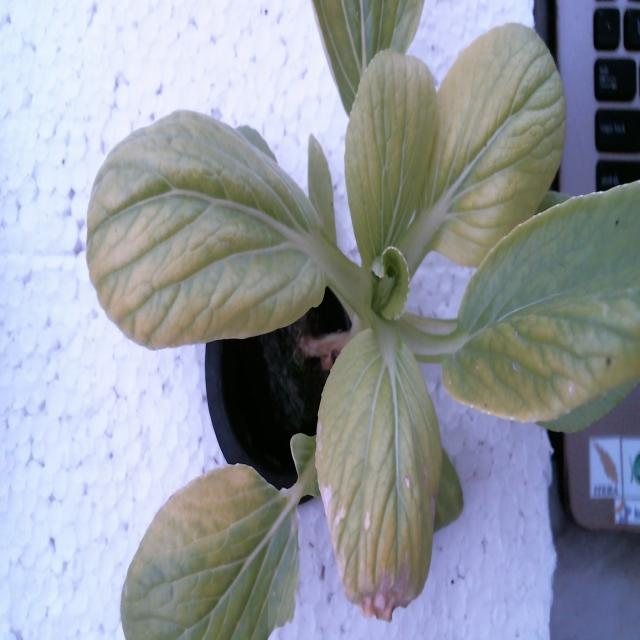pakcoy_tidak_sehat: (60, 13, 640, 636)
